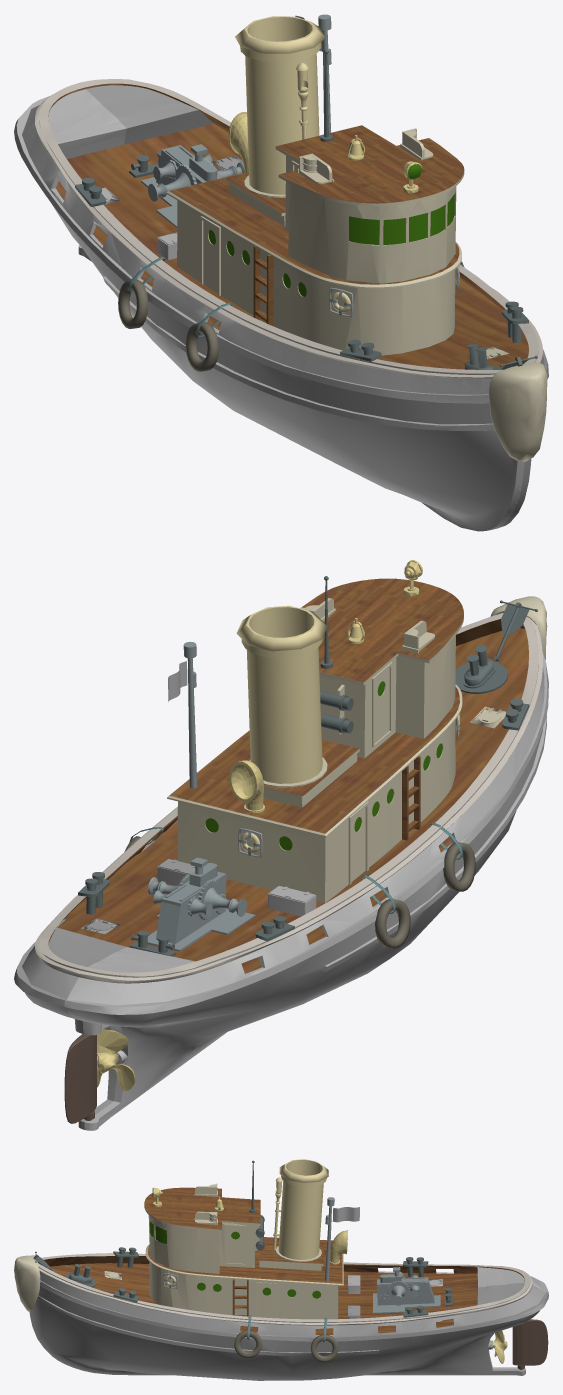
Rendered from ship_09.gltf.
3 renders of one model, top to bottom at view 1: azimuth 30°, elevation 25°; view 2: azimuth 150°, elevation 25°; view 3: azimuth 270°, elevation 25°, orthographic. The views are drawn at different scales.
Parts seen in each view (by area): view 1: 轮船09; view 2: 轮船09; view 3: 轮船09.
Boxes of the visible parts, x1,y1,x2,y2 form: 轮船09: [14, 14, 548, 531]; 轮船09: [14, 560, 548, 1130]; 轮船09: [14, 1159, 548, 1380].
Bounding box in the file's own units: 15.09 × 19.74 × 45.01.
Materials: 21 (7 with a texture image).
